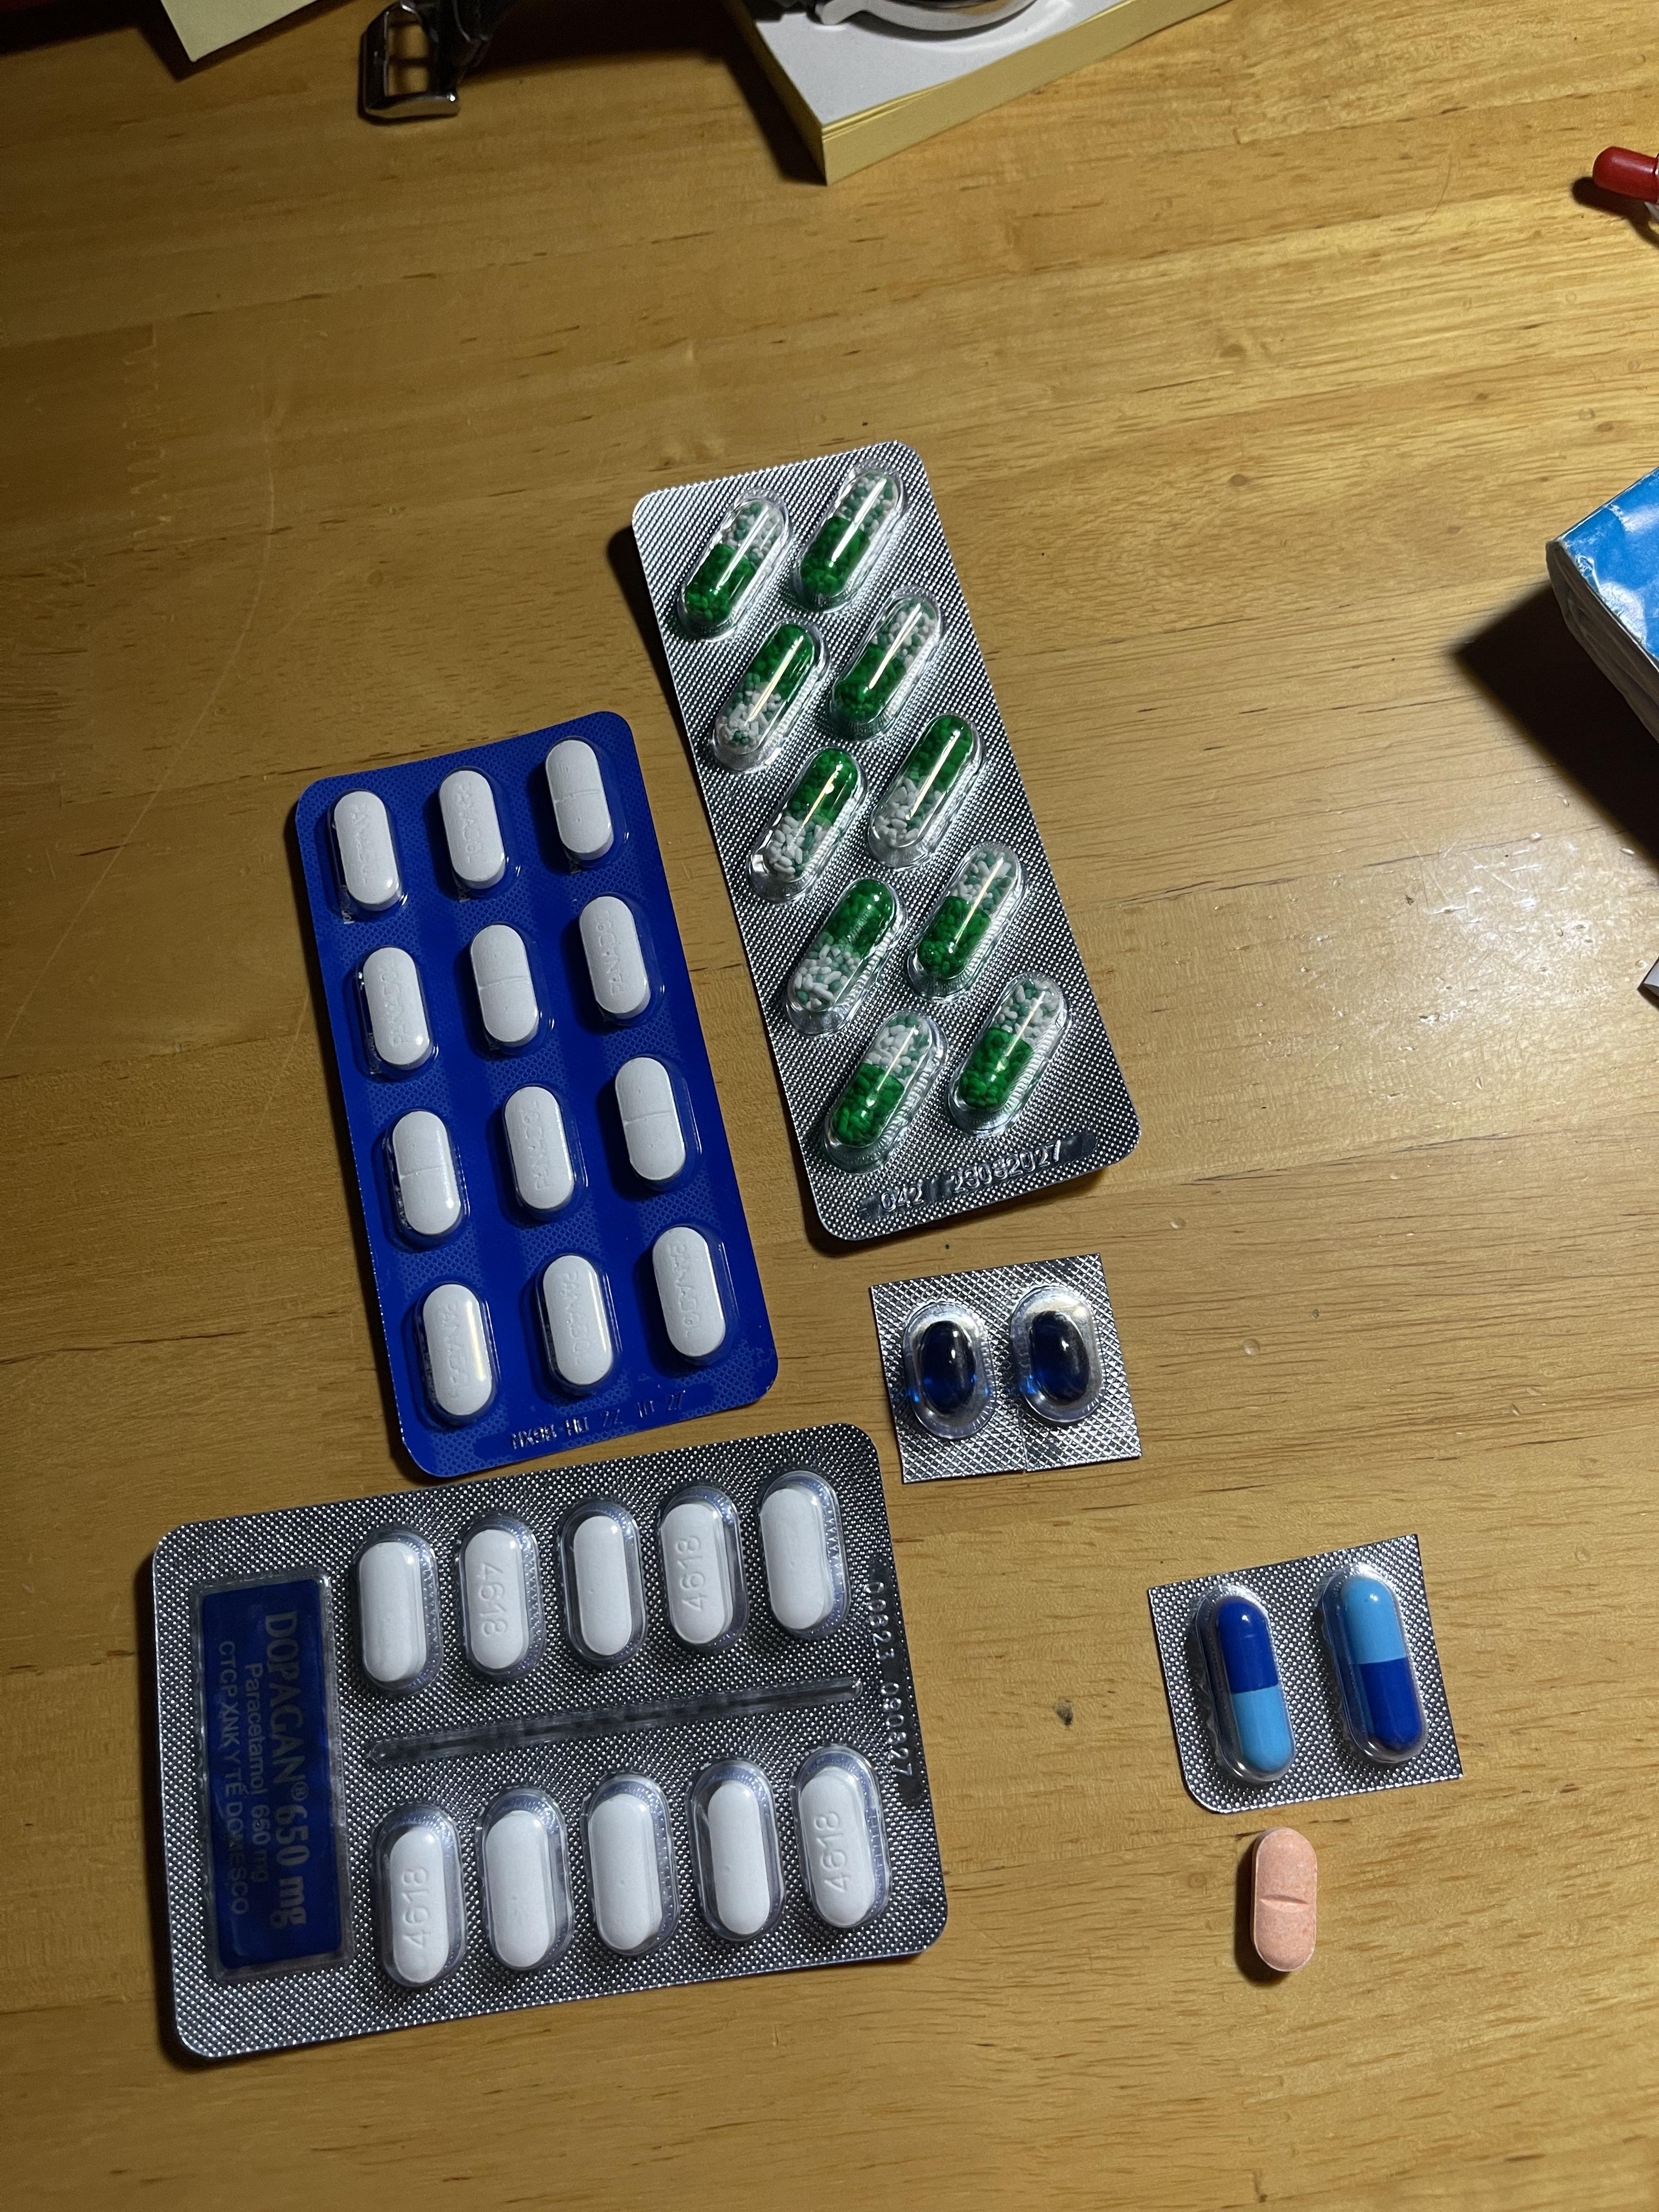Lincomyxin_500mg: (917, 1318, 979, 1414), (1028, 1312, 1089, 1402)
Loratadine_10mg: (1249, 1825, 1319, 1975)
Paracetamol_350mg: (535, 1254, 619, 1397), (652, 1224, 730, 1366), (416, 1284, 495, 1423), (613, 1055, 688, 1191), (389, 1109, 464, 1245), (502, 1087, 577, 1219), (579, 895, 653, 1026), (469, 923, 542, 1052), (361, 946, 434, 1073), (544, 740, 615, 864), (331, 792, 403, 914), (437, 768, 507, 892)
Paracetamol_500mg: (477, 1789, 573, 1977), (688, 1757, 782, 1949), (795, 1747, 884, 1940), (373, 1806, 464, 1994), (586, 1775, 676, 1961), (458, 1510, 551, 1679), (356, 1522, 444, 1691), (657, 1487, 749, 1648), (558, 1501, 647, 1665), (760, 1484, 835, 1634)
Paracetamol_650mg: (943, 968, 1066, 1132), (812, 1008, 939, 1167), (903, 840, 1030, 998), (781, 876, 906, 1031), (830, 589, 953, 738), (669, 496, 793, 643), (746, 745, 868, 894), (709, 617, 833, 761), (863, 704, 981, 843), (798, 470, 901, 601)
pill: (1338, 1573, 1422, 1754), (1213, 1594, 1290, 1777)
